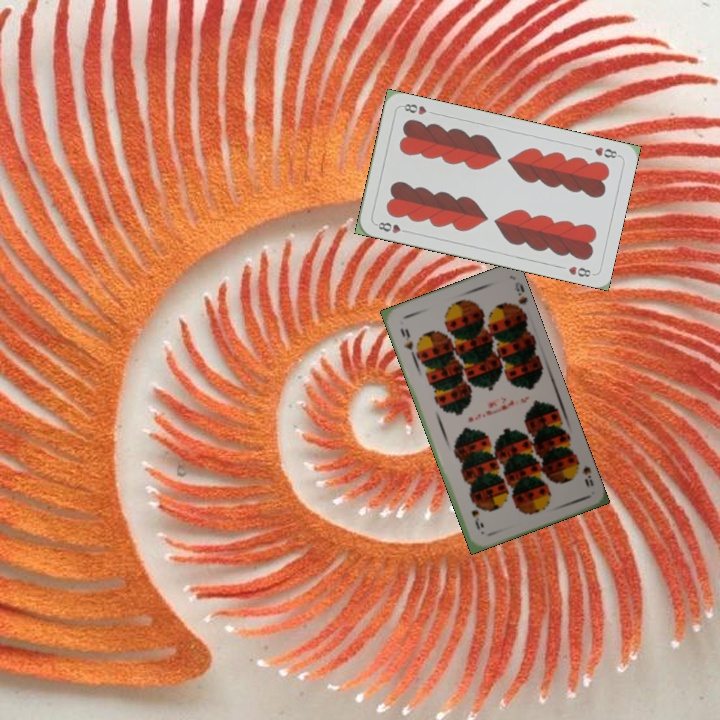H8: (372, 218, 412, 236), (590, 143, 622, 161)
S9: (570, 454, 596, 489), (396, 324, 417, 358)
